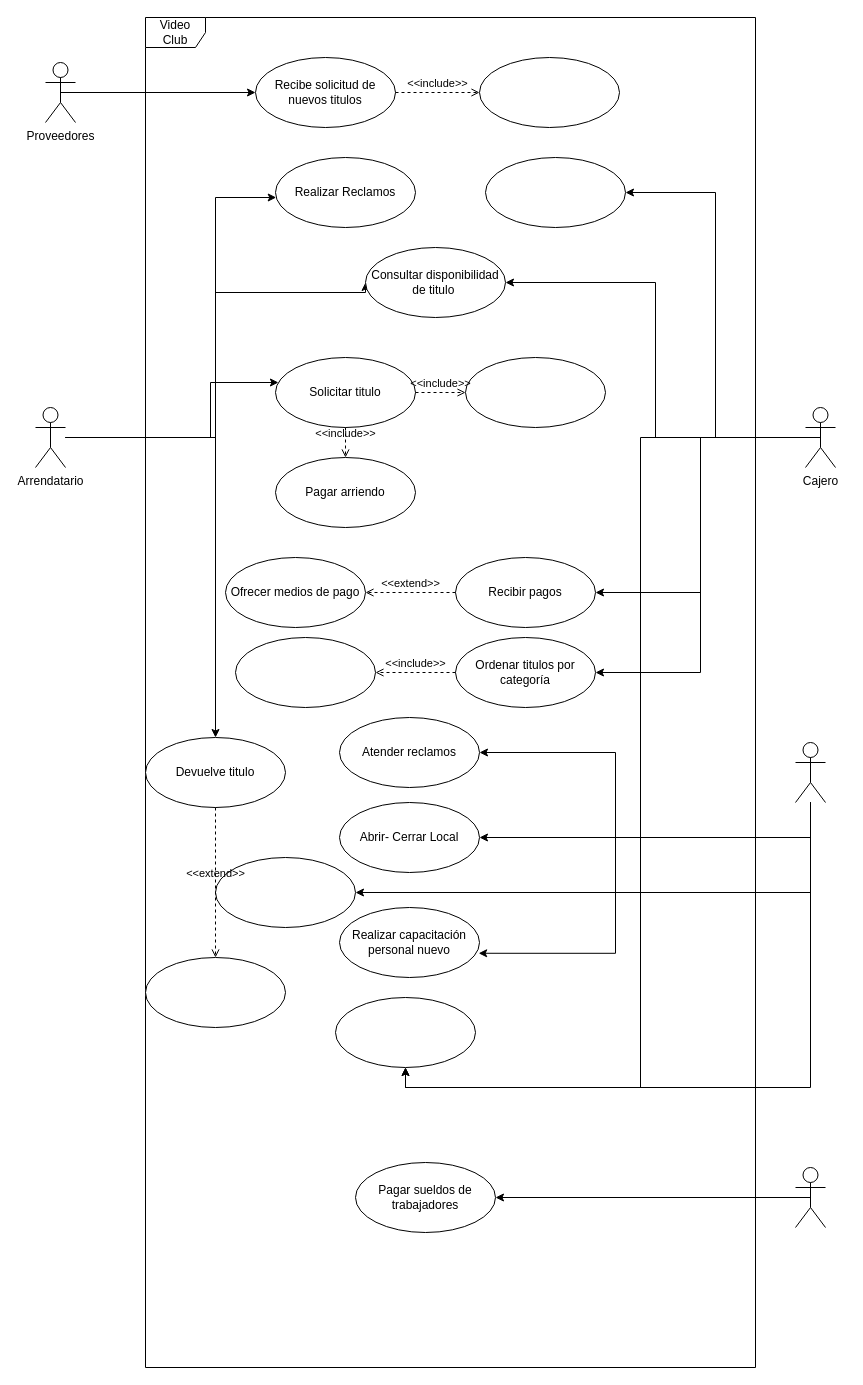
Image size: 863x1385. Some labels were removed from this diagram. The box of each missing label's shape, as (x1, y1, x2, y2) in pixels:
Entrega nuevos titulos: (478, 56, 620, 128)
Incluir nuevos titulos y reemplazar los que ya no sirven: (234, 636, 376, 708)
Inscripción o eliminación de membresia: (484, 156, 626, 228)
Jefe de Local: (794, 1166, 826, 1228)
Paga Morosidad: (144, 956, 286, 1028)
Realizar arqueo de caja: (334, 996, 476, 1068)
Se reduce el número de stock del titulo en tienda: (464, 356, 606, 428)
Sueprvisa trabajadores: (214, 856, 356, 928)
Sueprvisor: (794, 742, 826, 802)
